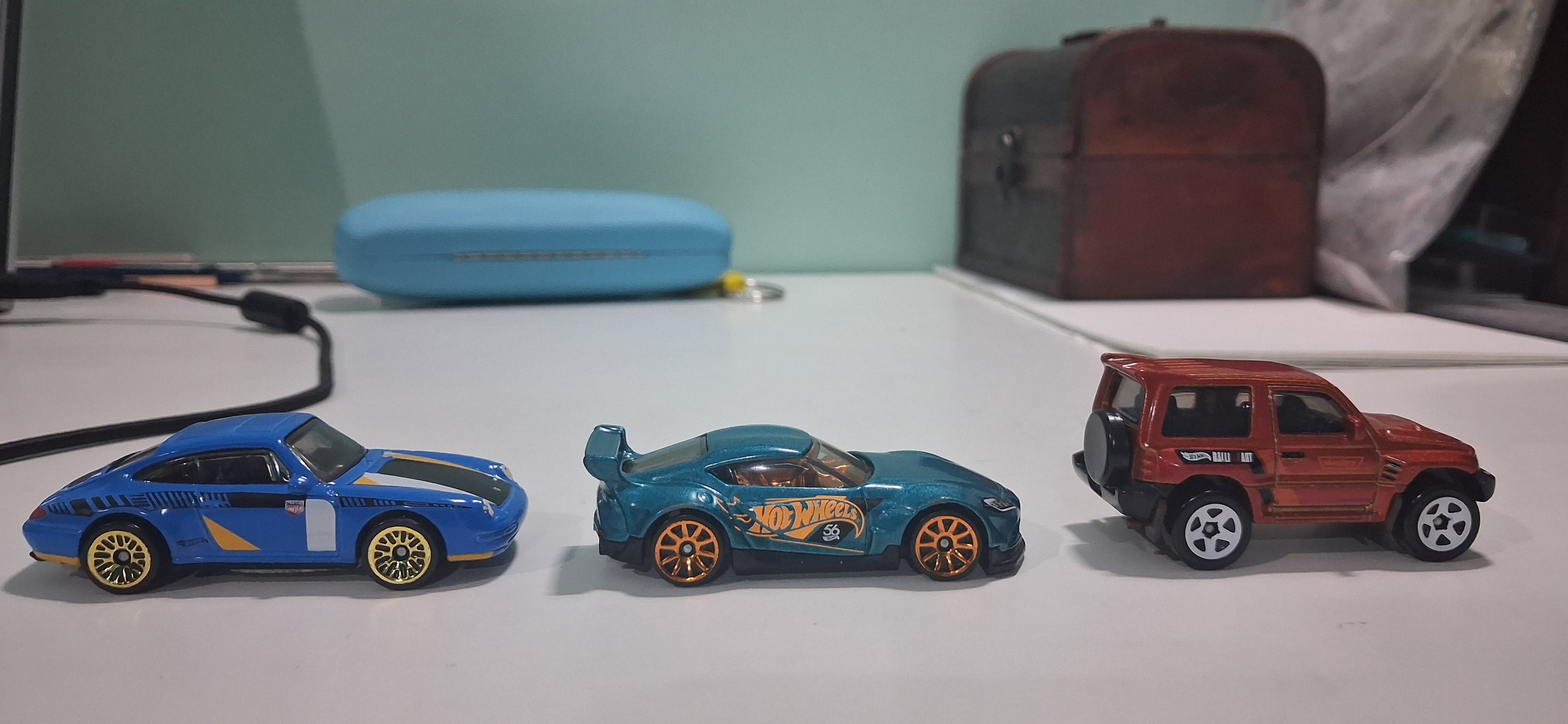Mitsubishi_Pajero_Evolution: (1045, 327, 1513, 587)
Porsche_Carrera: (13, 358, 572, 645)
Toyota_GR_Supra: (551, 357, 1034, 606)
